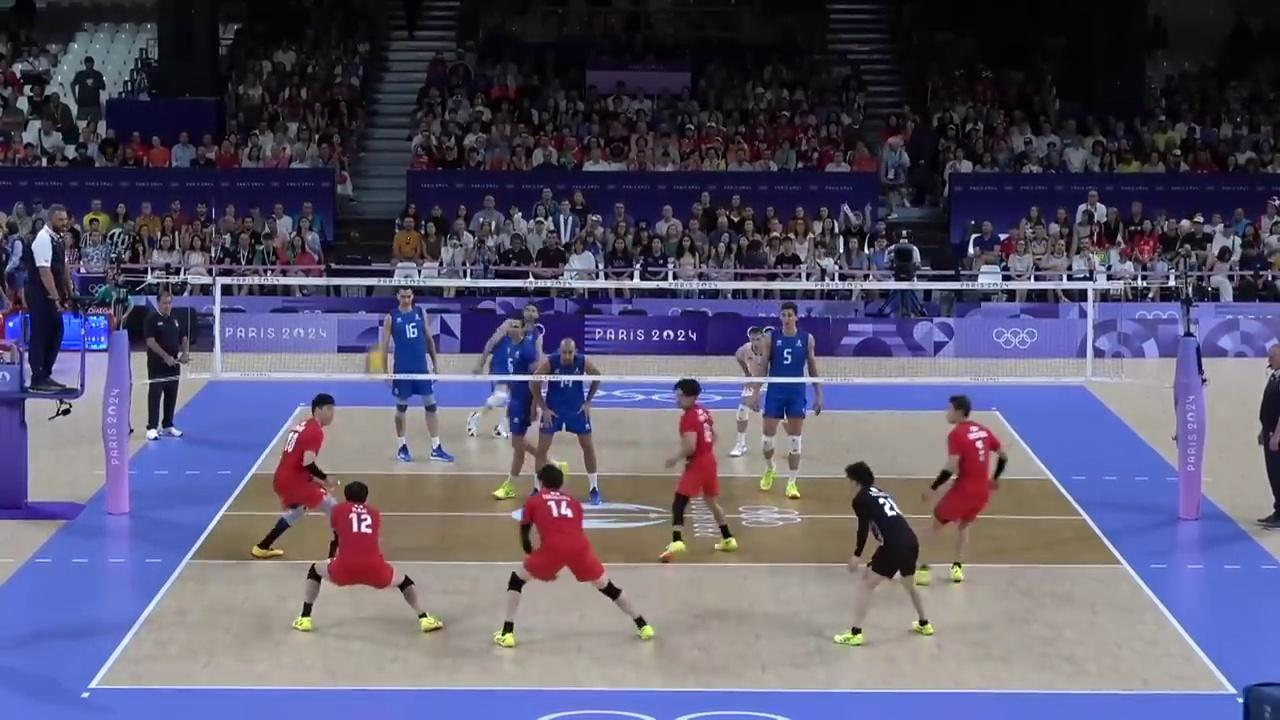ball: (365, 352, 385, 373)
